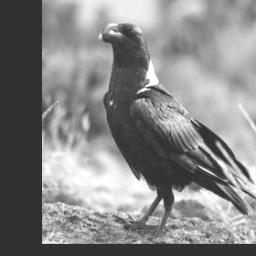Crow: (93, 17, 256, 241)
